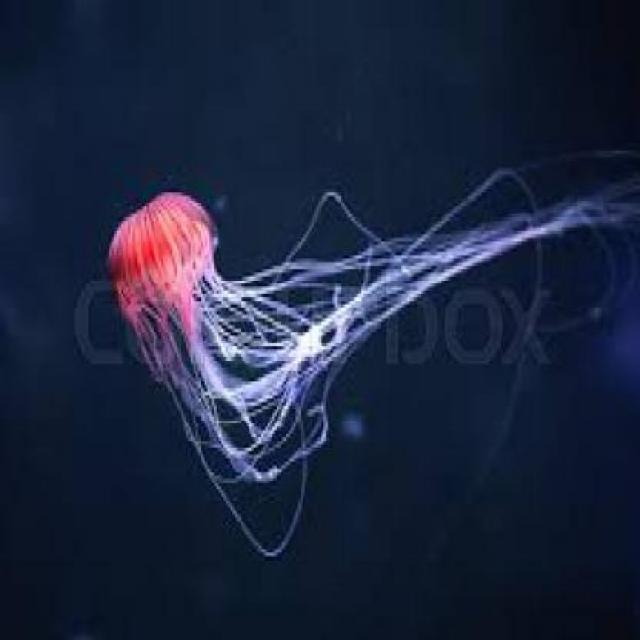Jellyfish: (102, 182, 615, 476)
